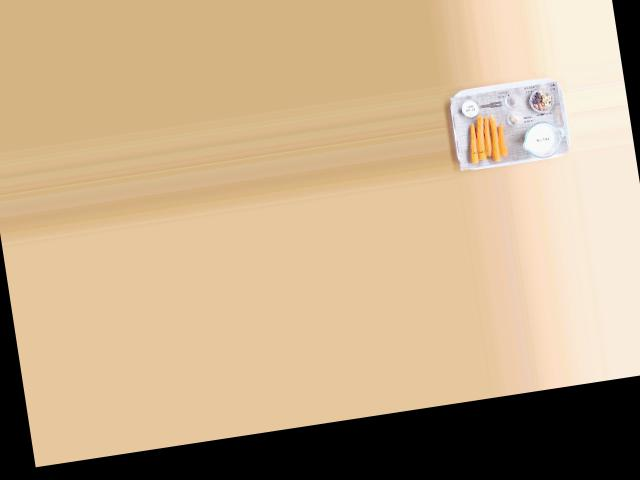carrot: (464, 121, 483, 164)
